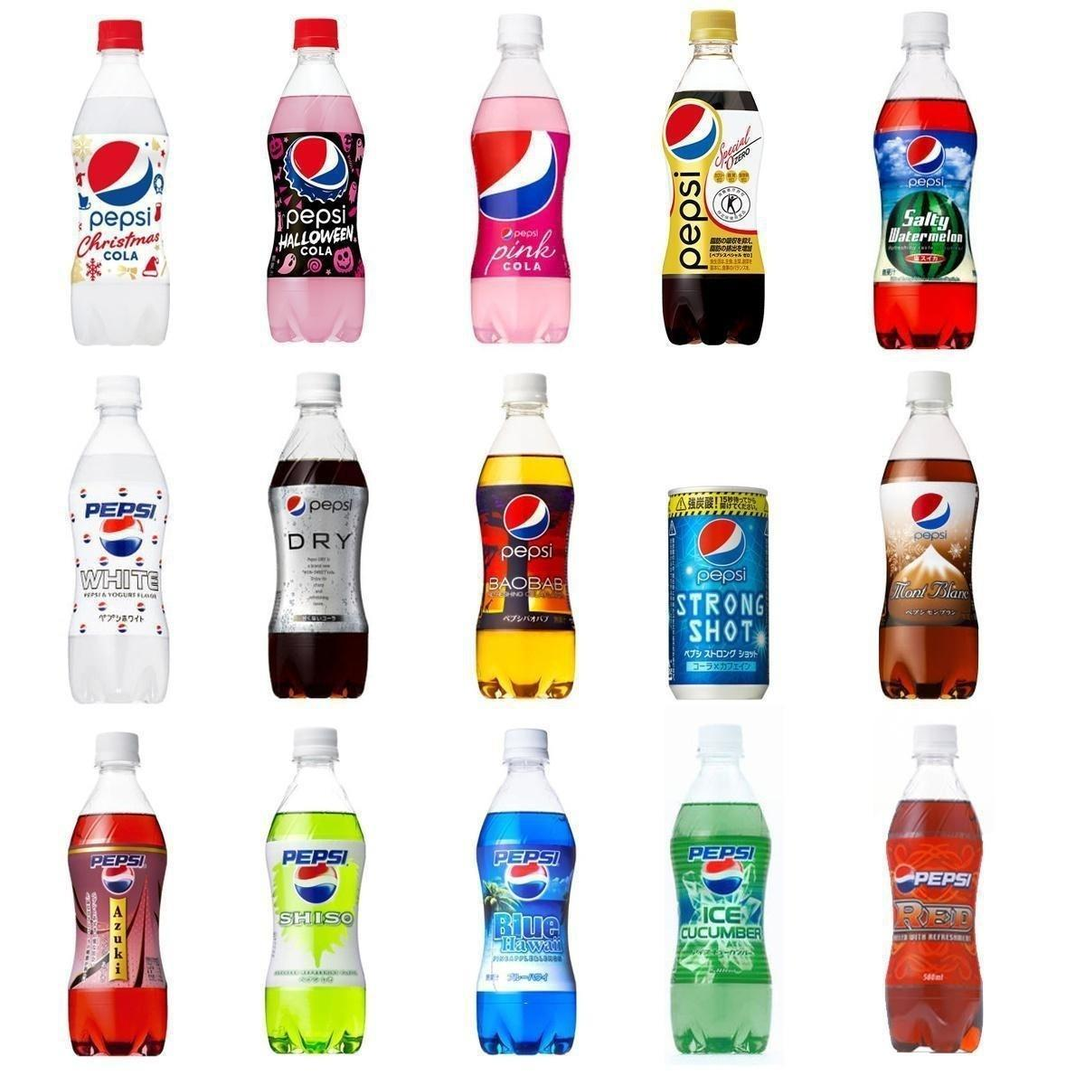bottle-plastic: (865, 5, 986, 353), (654, 4, 773, 351), (256, 720, 376, 1064), (660, 719, 781, 1060), (466, 722, 587, 1063), (59, 725, 176, 1063), (464, 6, 579, 349), (61, 369, 177, 708), (877, 717, 991, 1057), (259, 13, 373, 349), (65, 15, 177, 352), (263, 366, 375, 703), (469, 369, 581, 703), (873, 368, 985, 699)
tin can: (662, 479, 778, 703)
